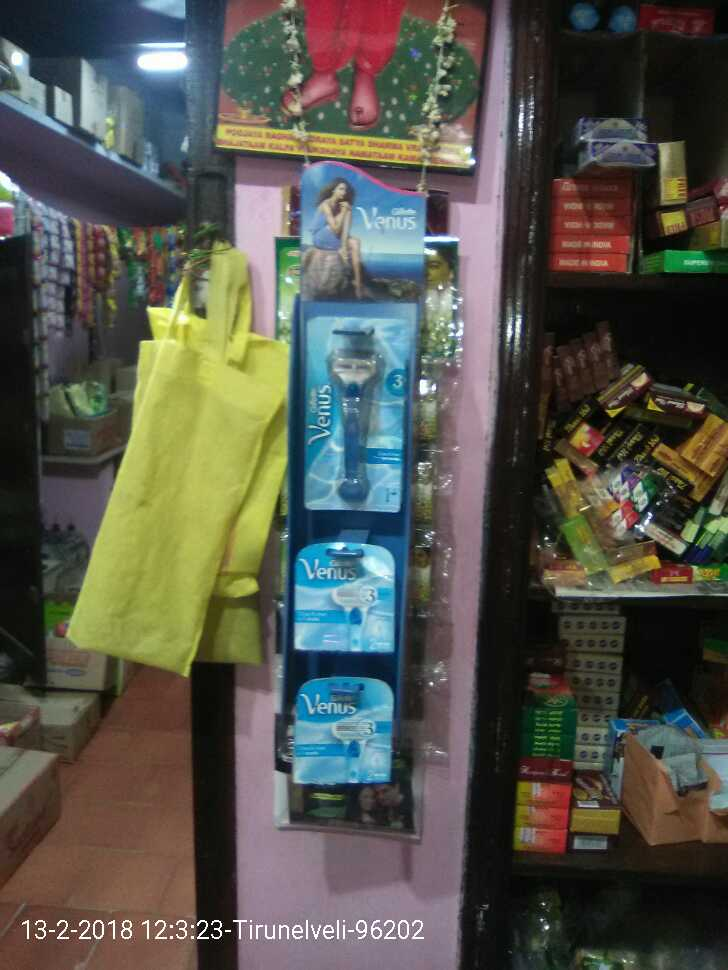venus: (299, 321, 416, 513), (291, 541, 403, 653), (287, 676, 397, 790)
